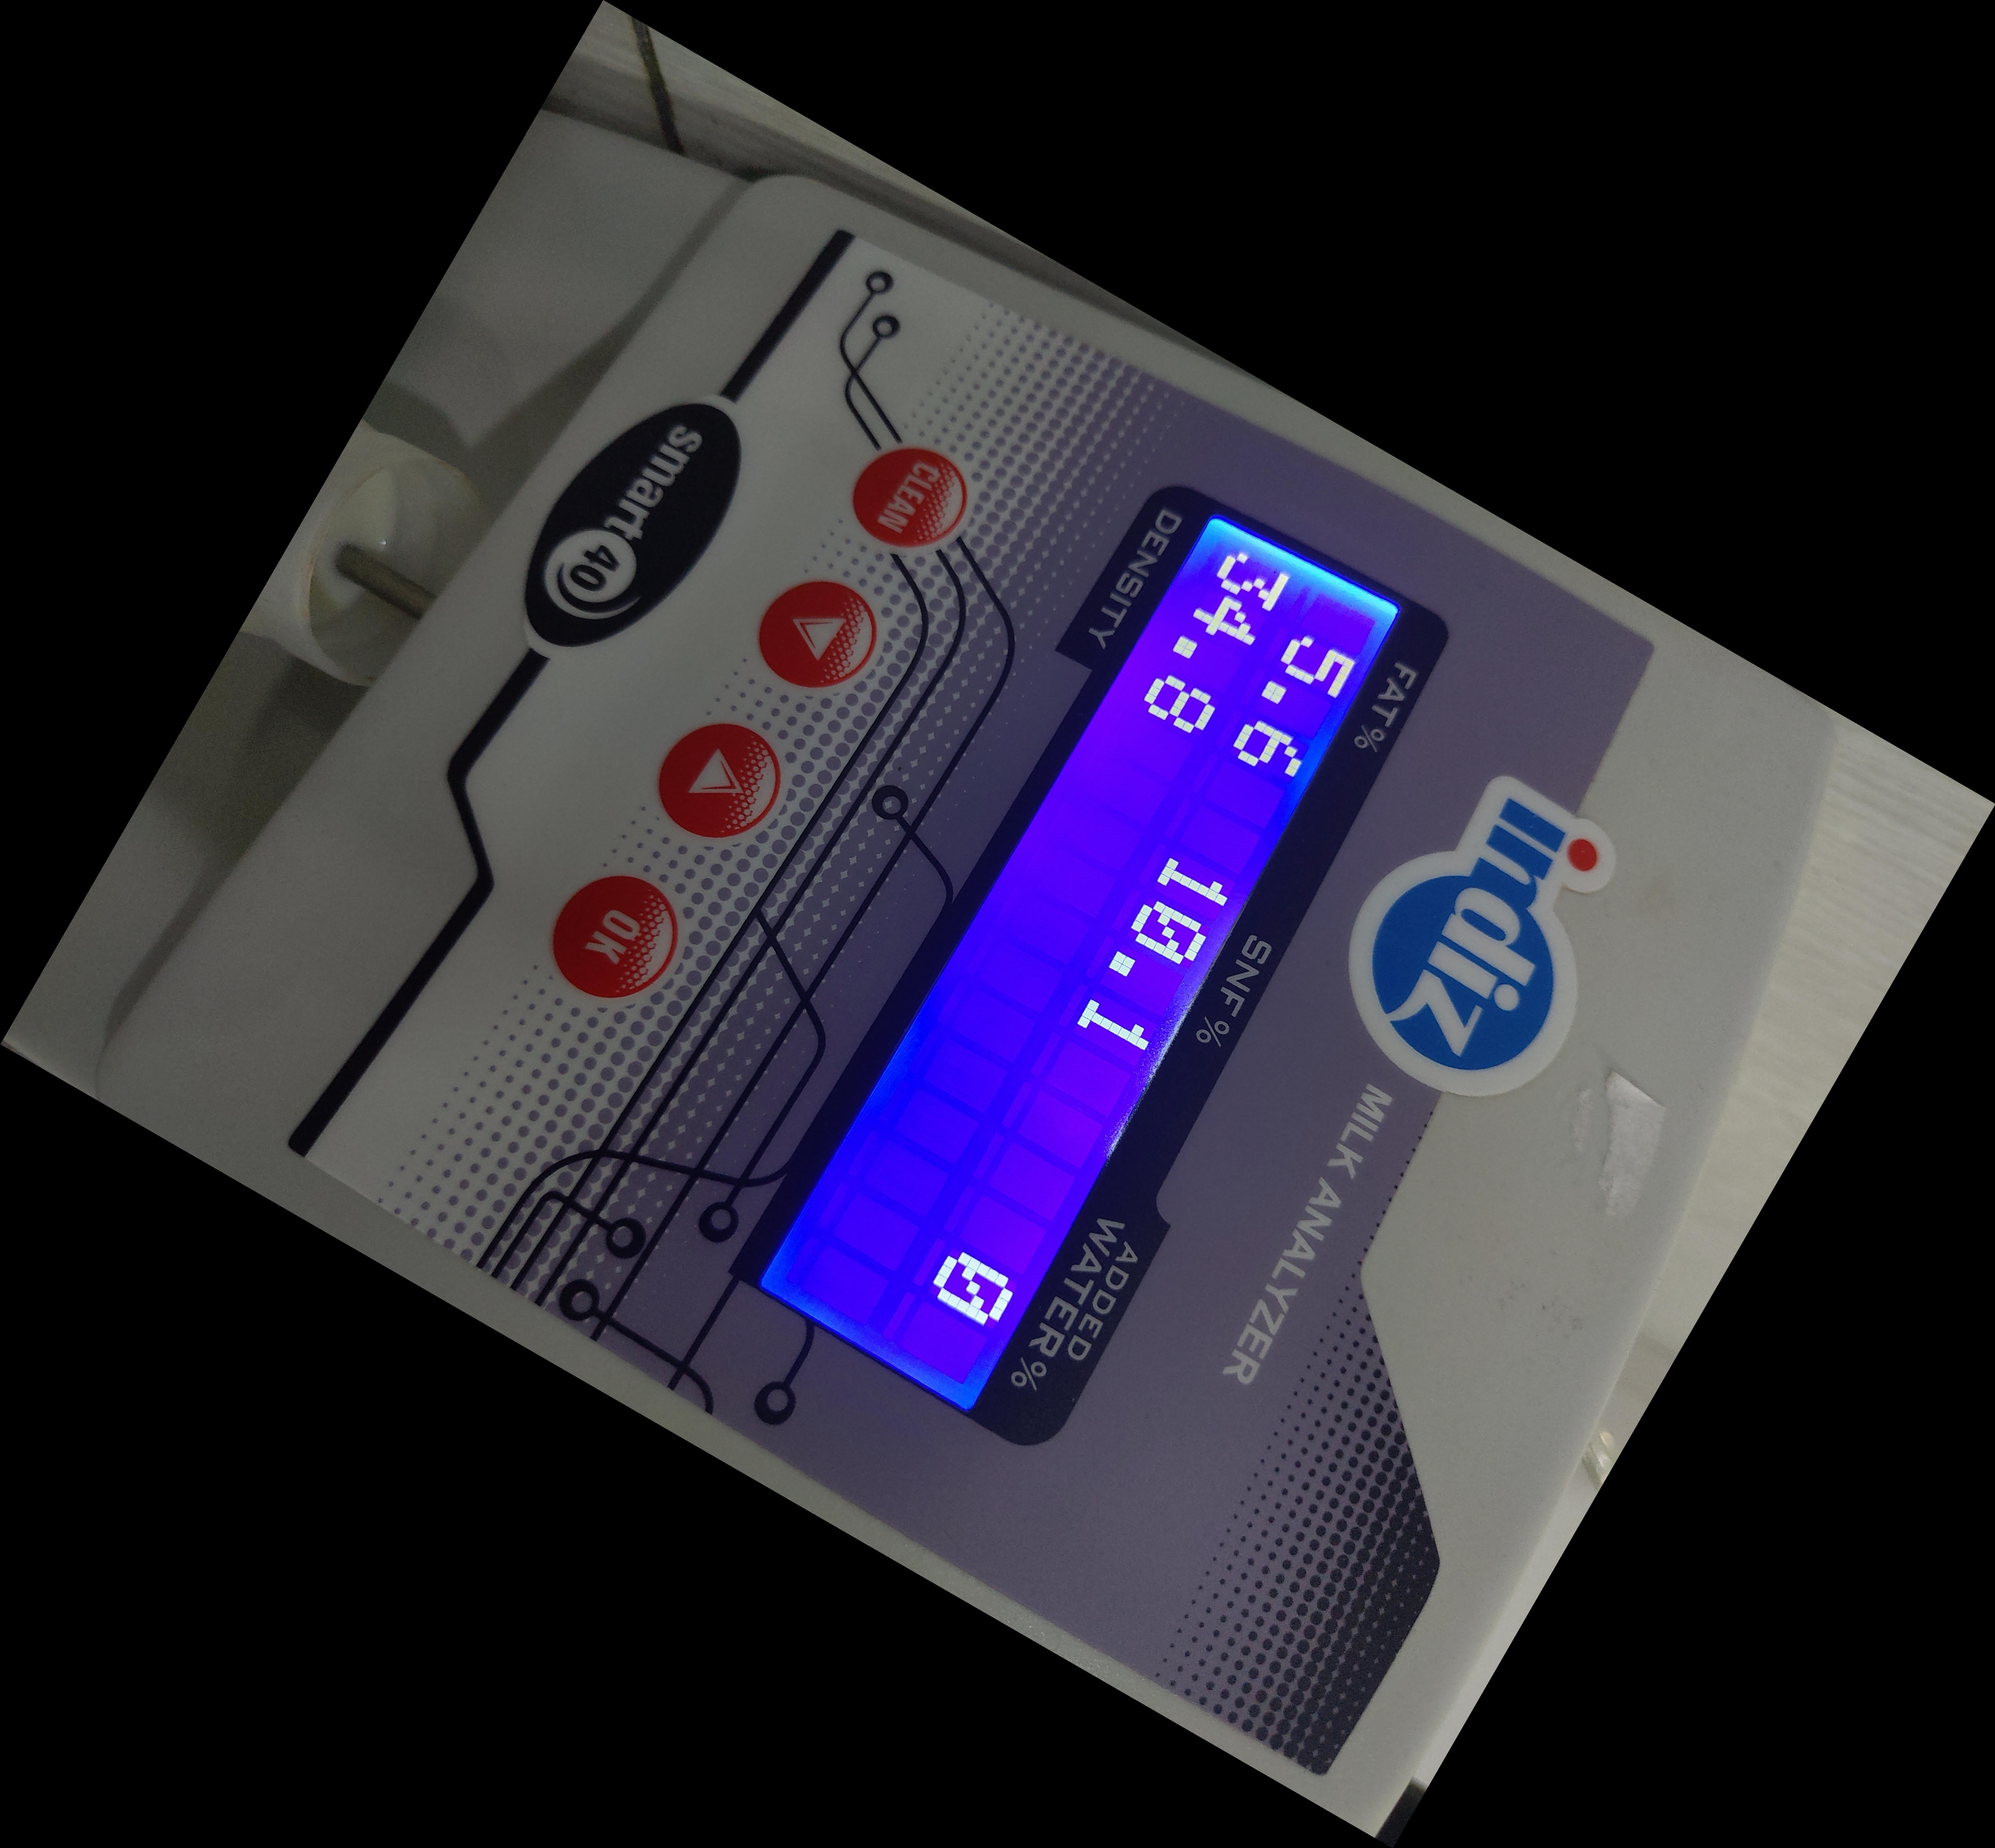lcd: (725, 489, 1451, 1462)
